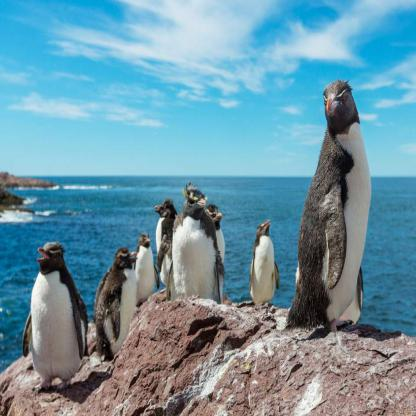Penguin: (283, 79, 381, 354), (15, 222, 95, 407), (161, 162, 231, 317), (85, 232, 149, 385), (144, 178, 192, 298), (240, 210, 288, 328), (198, 195, 234, 300), (124, 219, 158, 311)
